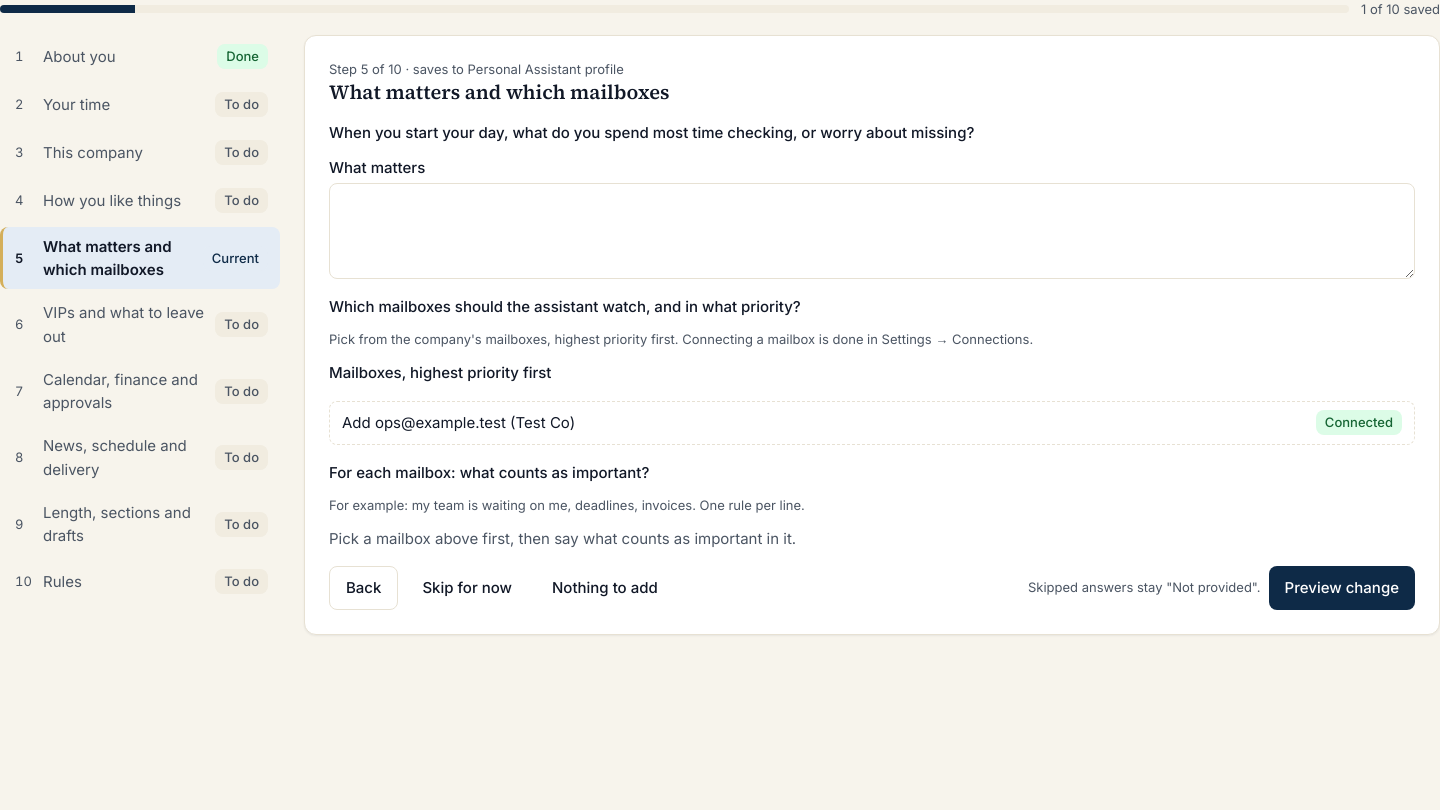
Scenario: BrainInterview mode wizard › Nothing to add marks the section done without a preview or a save, and the finish screen still says Not provided
Earlier steps of the test are not shown.
Expected: the element with test id "interview-group" is shown, [329,60,1415,610]
Click the button "Skip for now" at {"x": 467, "y": 588}, box [406,566,528,610]
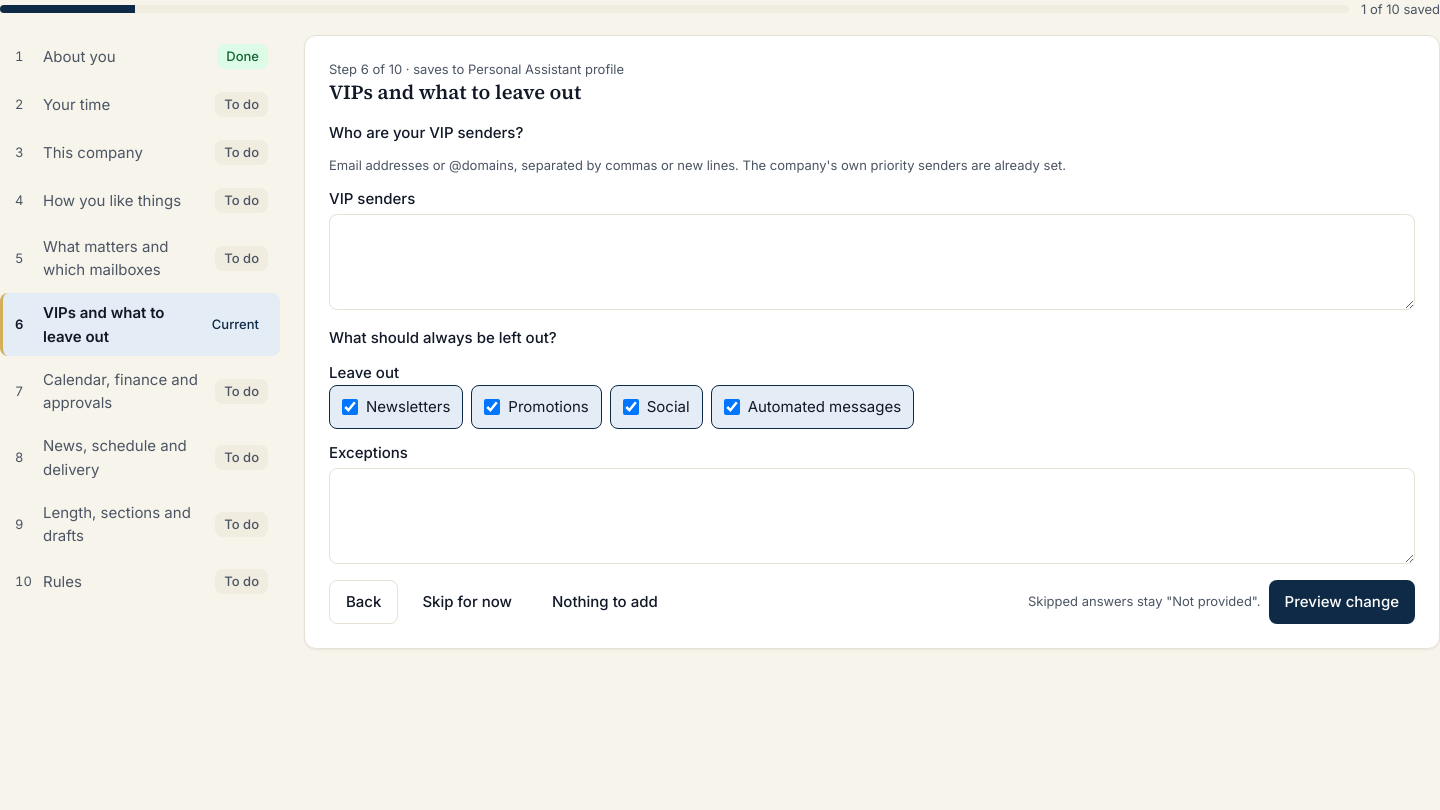
Expected: the element with test id "interview-group" is shown, [329,60,1415,624]
Click the button "Skip for now" at {"x": 467, "y": 602}, box [406,580,528,624]
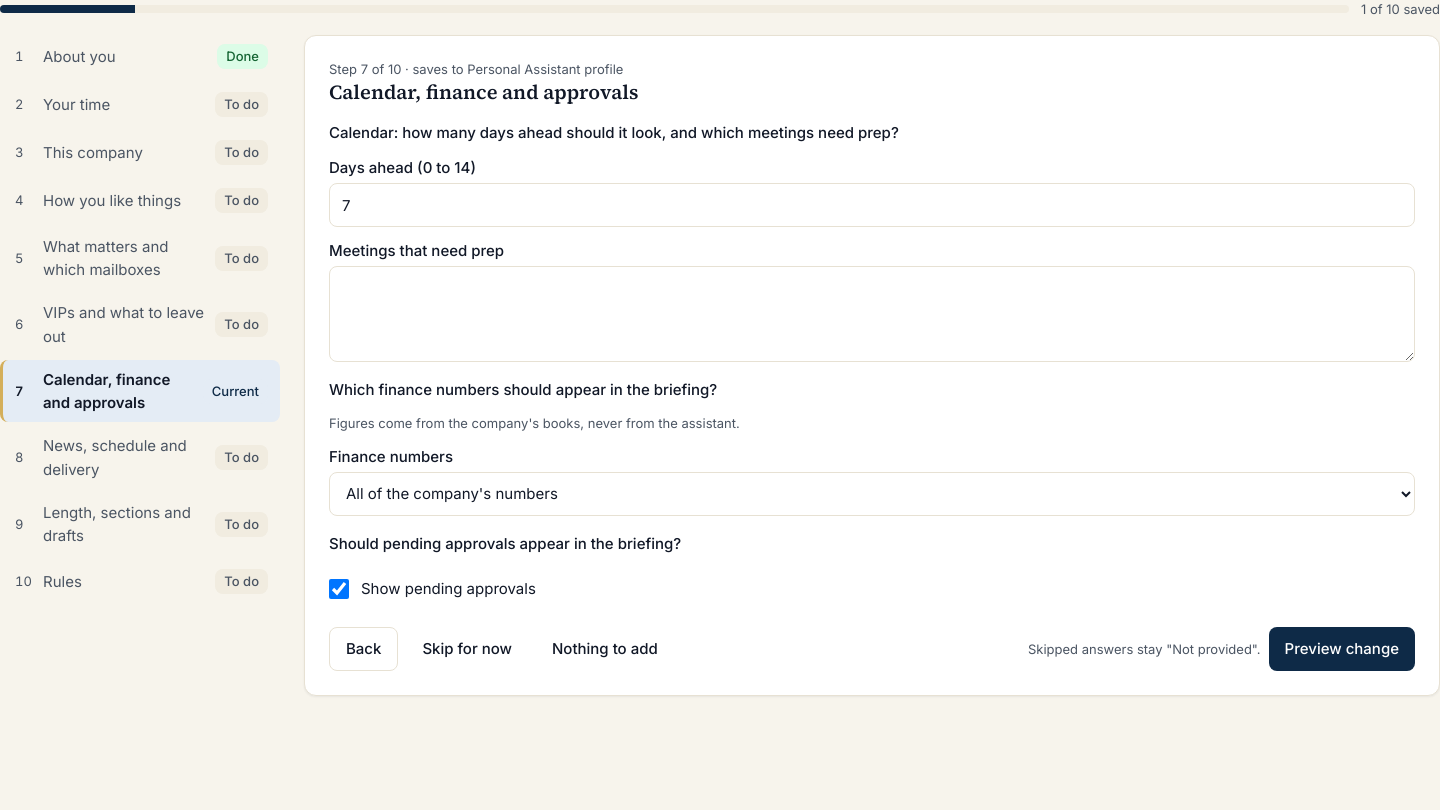
Expected: the element with test id "interview-group" is shown, [329,60,1415,671]
Click the button "Skip for now" at {"x": 467, "y": 649}, box [406,627,528,671]
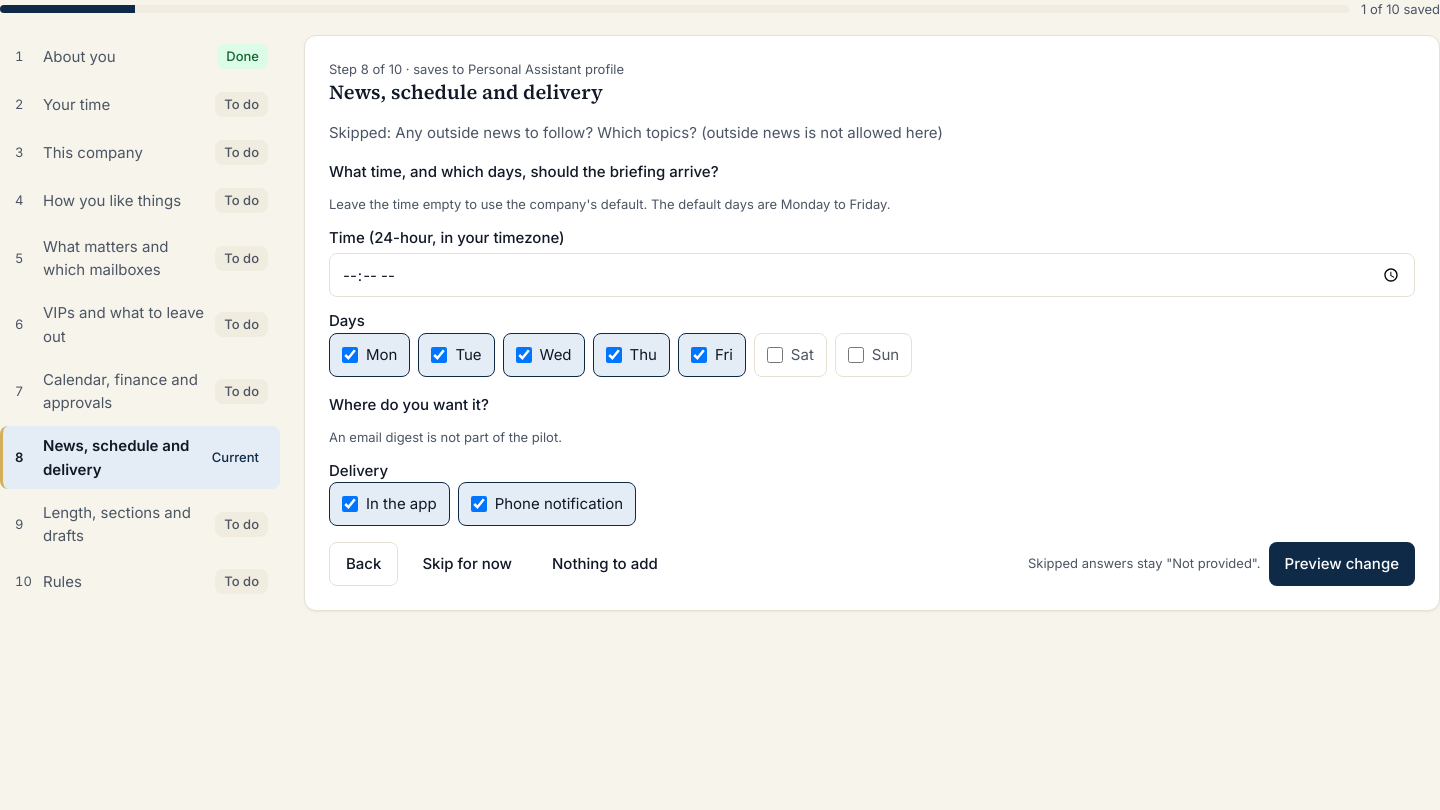
Expected: the element with test id "interview-group" is shown, [329,60,1415,586]
Click the button "Skip for now" at {"x": 467, "y": 564}, box [406,542,528,586]
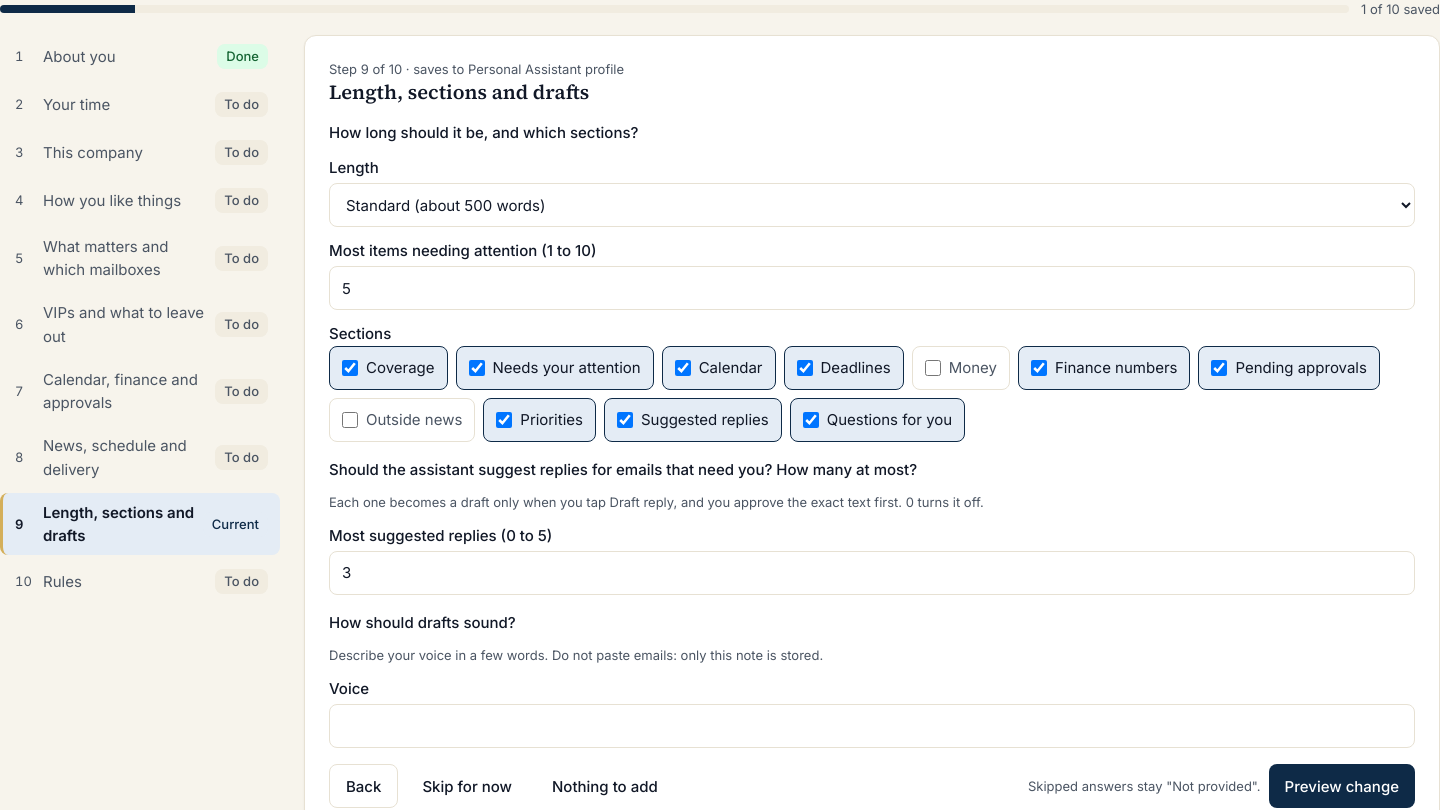
Click the button "Skip for now" at {"x": 467, "y": 786}, box [406,764,528,808]
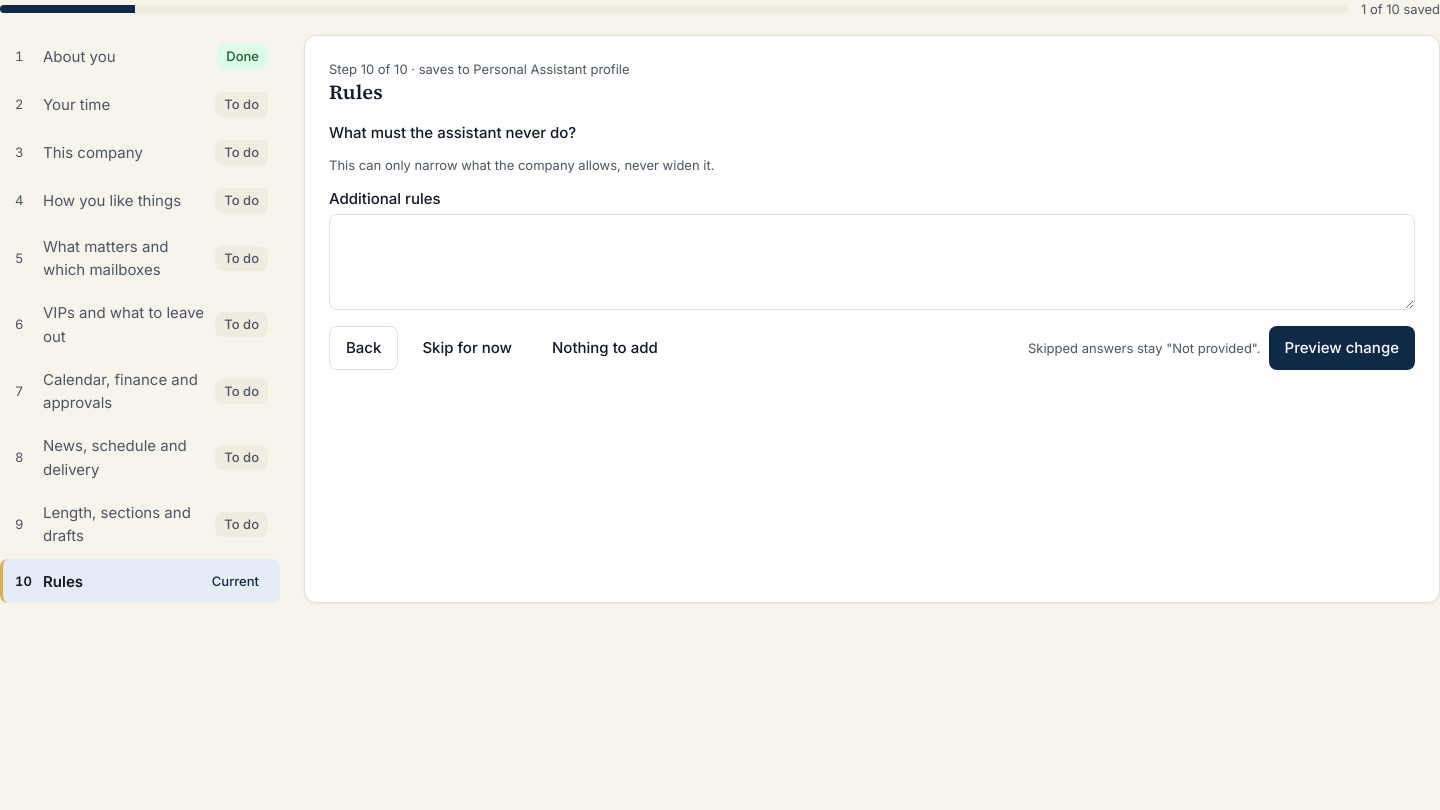
Expected: the element with test id "interview-group" is shown, [329,60,1415,370]
Click the button "Skip for now" at {"x": 467, "y": 348}, box [406,326,528,370]
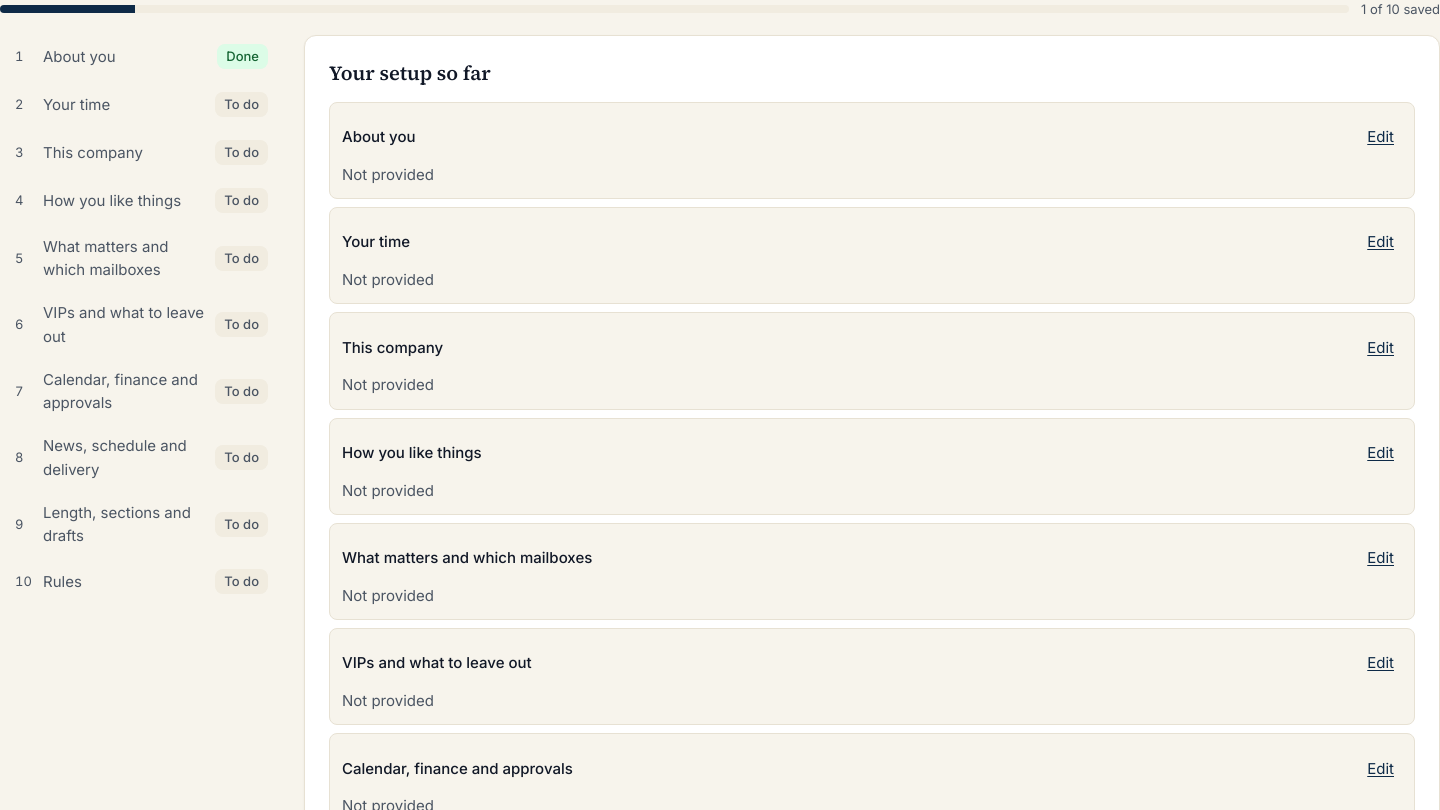
Expected: the list item with test id "finish-A-1" shows "Not provided", [342,165,434,184]
